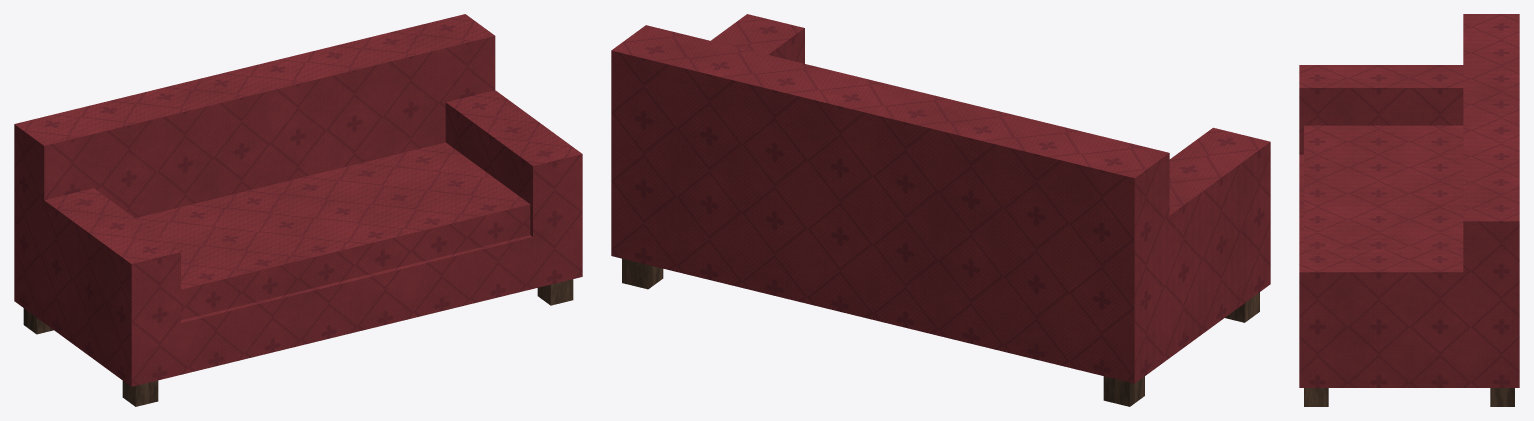
File: PRP_Sofa.fbx
3 views of the same model, side by side, from view 1: azimuth 30°, elevation 25°; view 2: azimuth 150°, elevation 25°; view 3: azimuth 270°, elevation 25° (orthographic). The views are drawn at different scales.
Visible parts, largest first — view 1: PRP_Sofa; view 2: PRP_Sofa; view 3: PRP_Sofa.
Boxes of the visible parts, bbox=[...] form: PRP_Sofa: bbox=[14, 14, 582, 406]; PRP_Sofa: bbox=[611, 14, 1270, 406]; PRP_Sofa: bbox=[1299, 14, 1519, 406].
Bounding box in the file's own units: 2 × 0.85 × 0.9.
